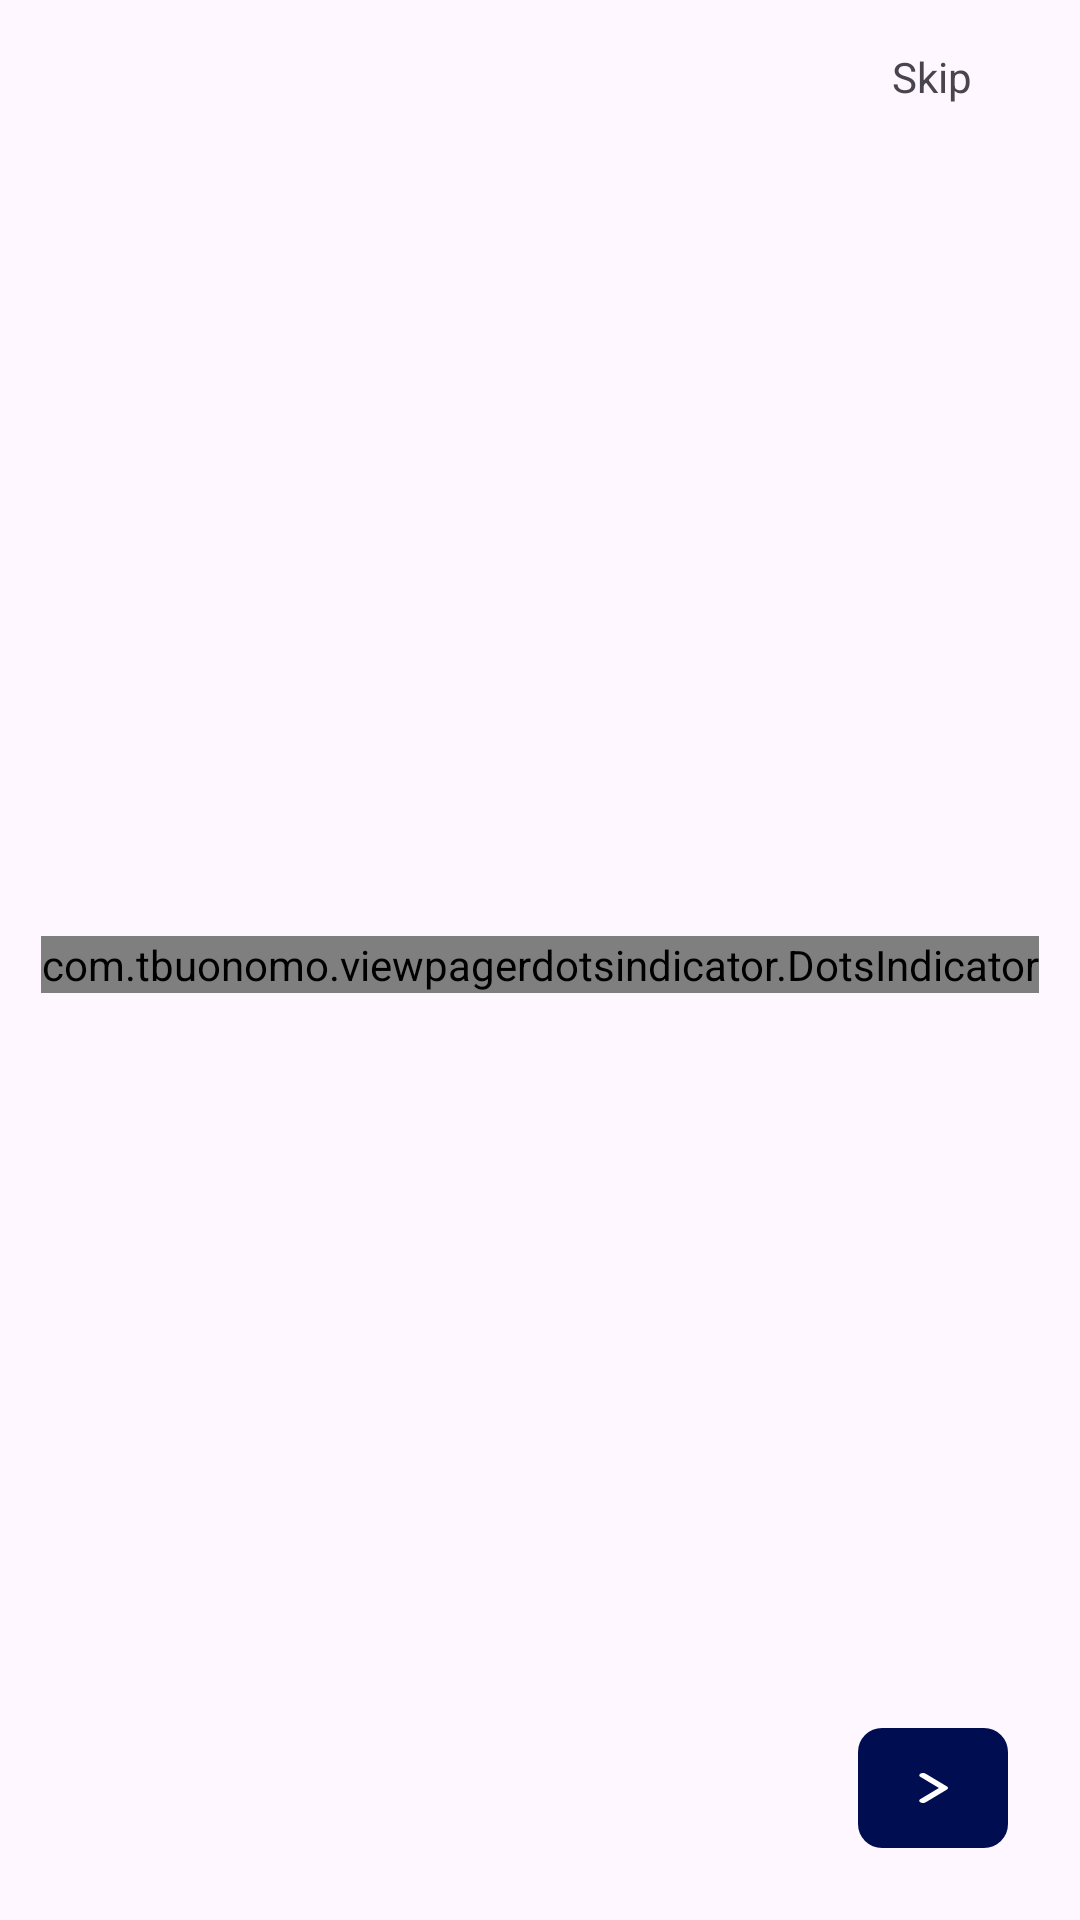

Where icons sit on this 1080x1920 app screen, as (x1, y1, x2, y2):
next chavlet: (858, 1728, 1008, 1848)
